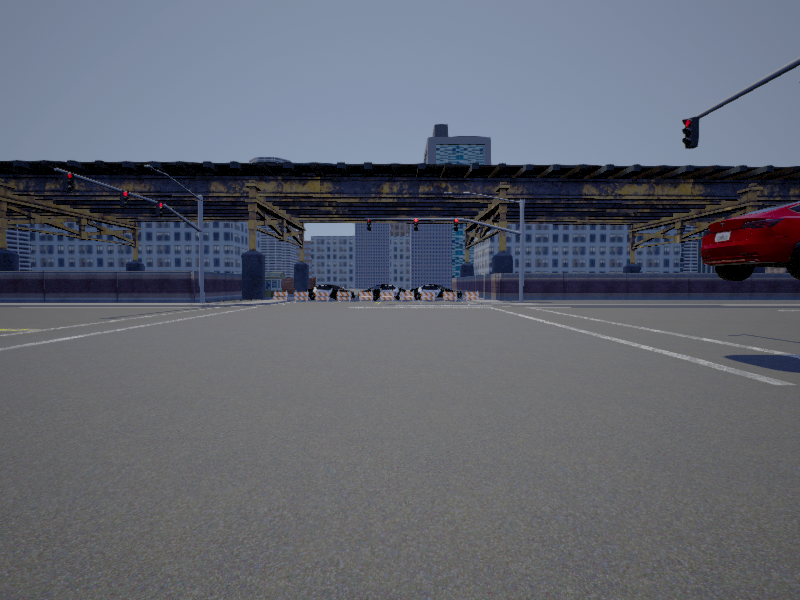Attacker: (701, 201, 800, 279)
